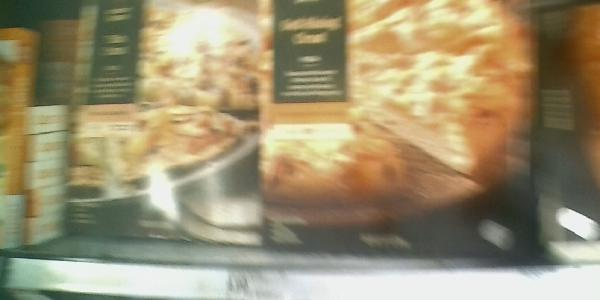pizza1: (264, 1, 540, 260), (68, 1, 262, 247)
